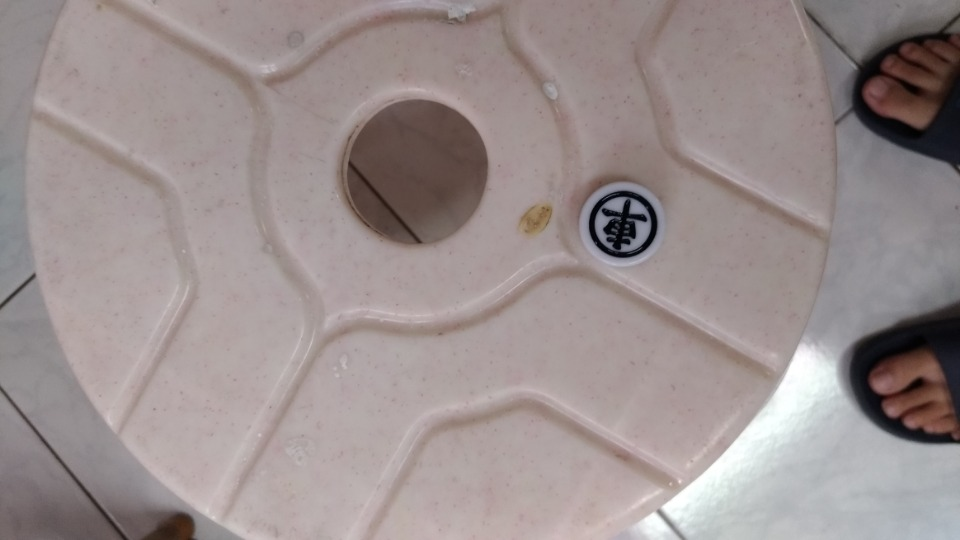b-king: (565, 171, 692, 282)
